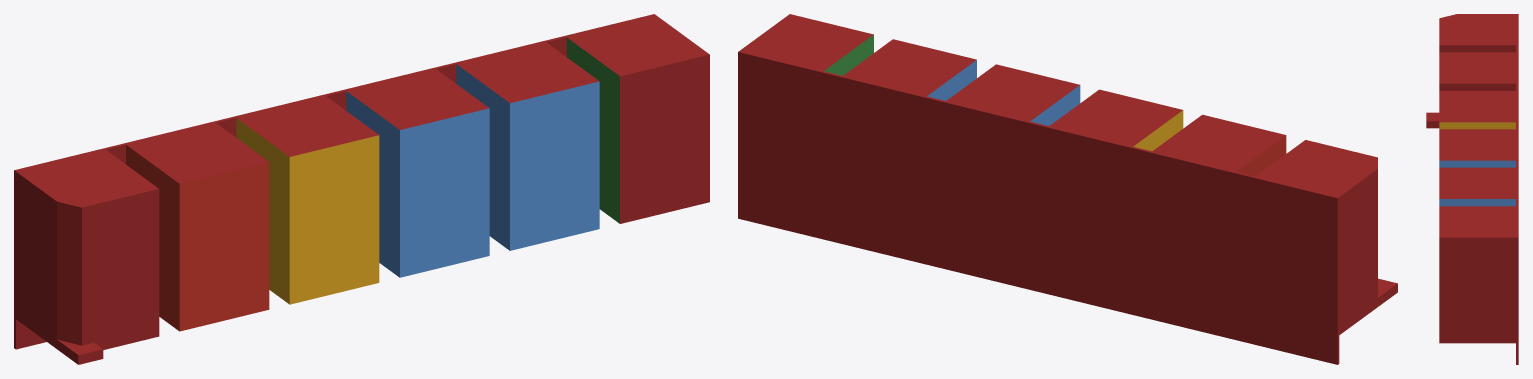
File: ps122_back_map v1.fbx
3 renders of one model, left to right at view 1: azimuth 30°, elevation 25°; view 2: azimuth 150°, elevation 25°; view 3: azimuth 270°, elevation 25°, orthographic. The views are drawn at different scales.
Parts seen in each view (by area): view 1: Body1; view 2: Body1; view 3: Body1.
Part boxes in pixels (x1,y1,x2,y2): Body1: (14,14,709,364); Body1: (738,14,1397,364); Body1: (1426,14,1518,364).
Size of the model in its own units: 207 by 55 by 36.
